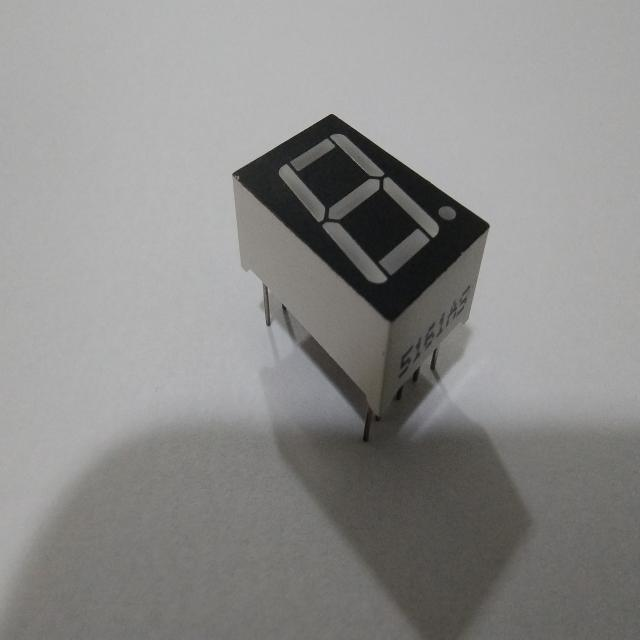7_segments: (226, 108, 494, 450)
